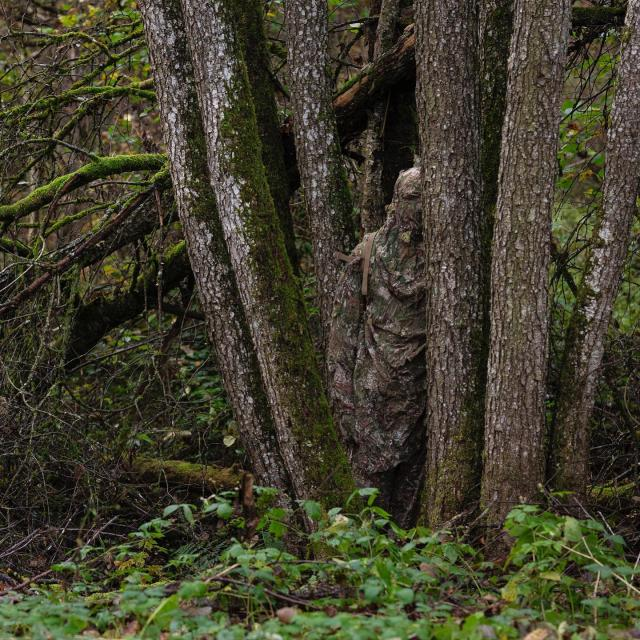Camouflage: (328, 167, 434, 533)
